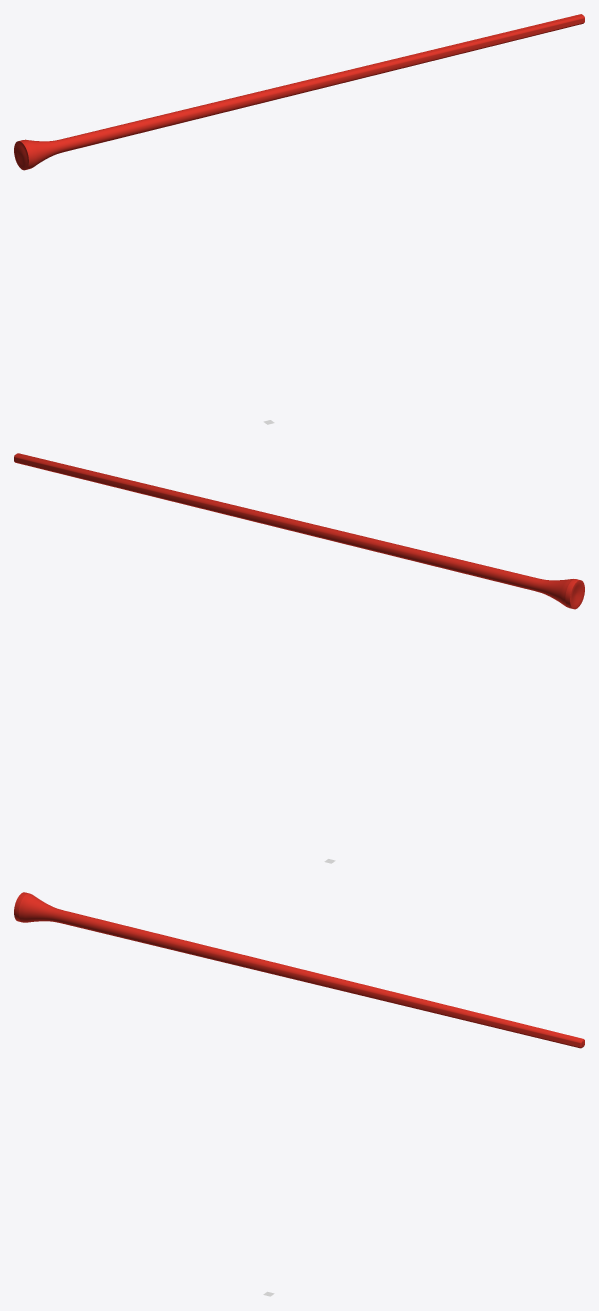
Rendered from Chopstee_V1_blueprint.glb.
3 views of the same model, one above another, from view 1: azimuth 30°, elevation 25°; view 2: azimuth 150°, elevation 25°; view 3: azimuth 330°, elevation 25° (orthographic).
Visible parts, largest first — view 1: final; view 2: final; view 3: final.
Boxes of the visible parts, box(x1,y1,x2,y2) form: final: box(14, 14, 584, 170); final: box(14, 453, 584, 609); final: box(14, 892, 584, 1048).
Bounding box in the file's own units: 239 × 139 × 11.01.
